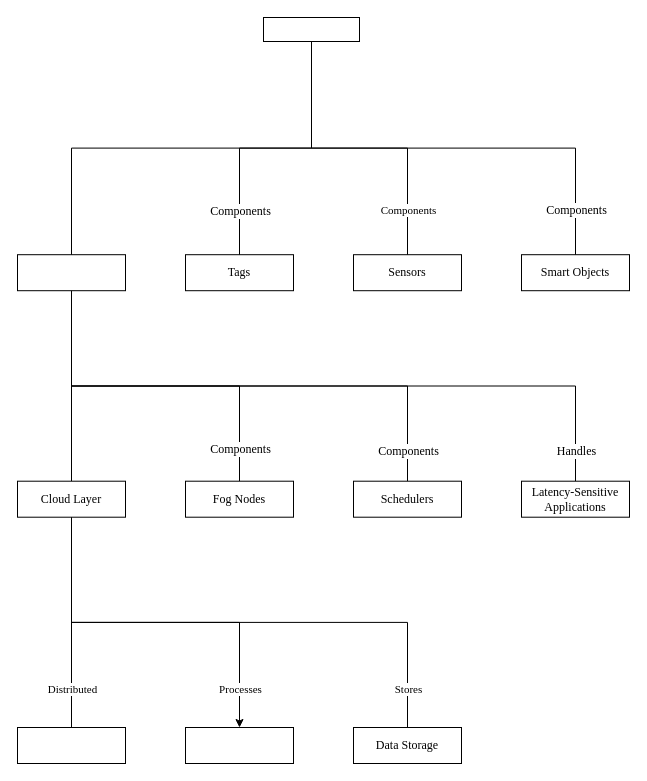
Image size: 647x781. Some labels were removed from this diagram. Here are the shapes that lost their labels. From the top down, the centre of each, then its label:
(311,29): Things Layer
(71,272): Fog Layer
(71,745): Cloud Servers
(239,745): Heterogeneous Data
